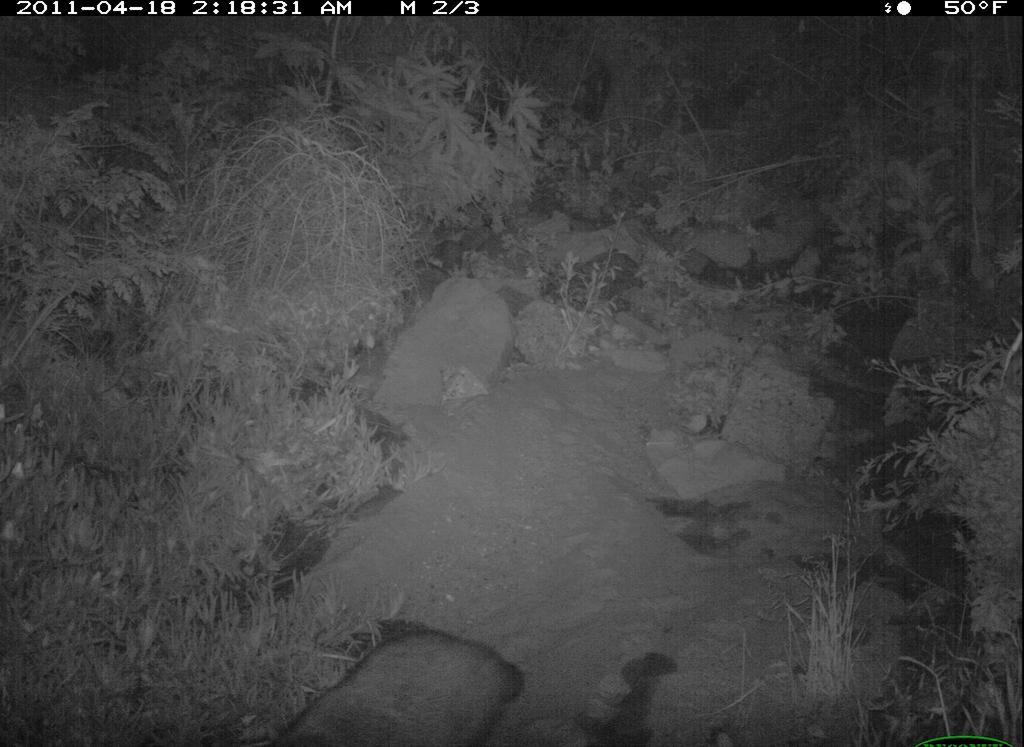raccoon: (247, 628, 547, 747)
